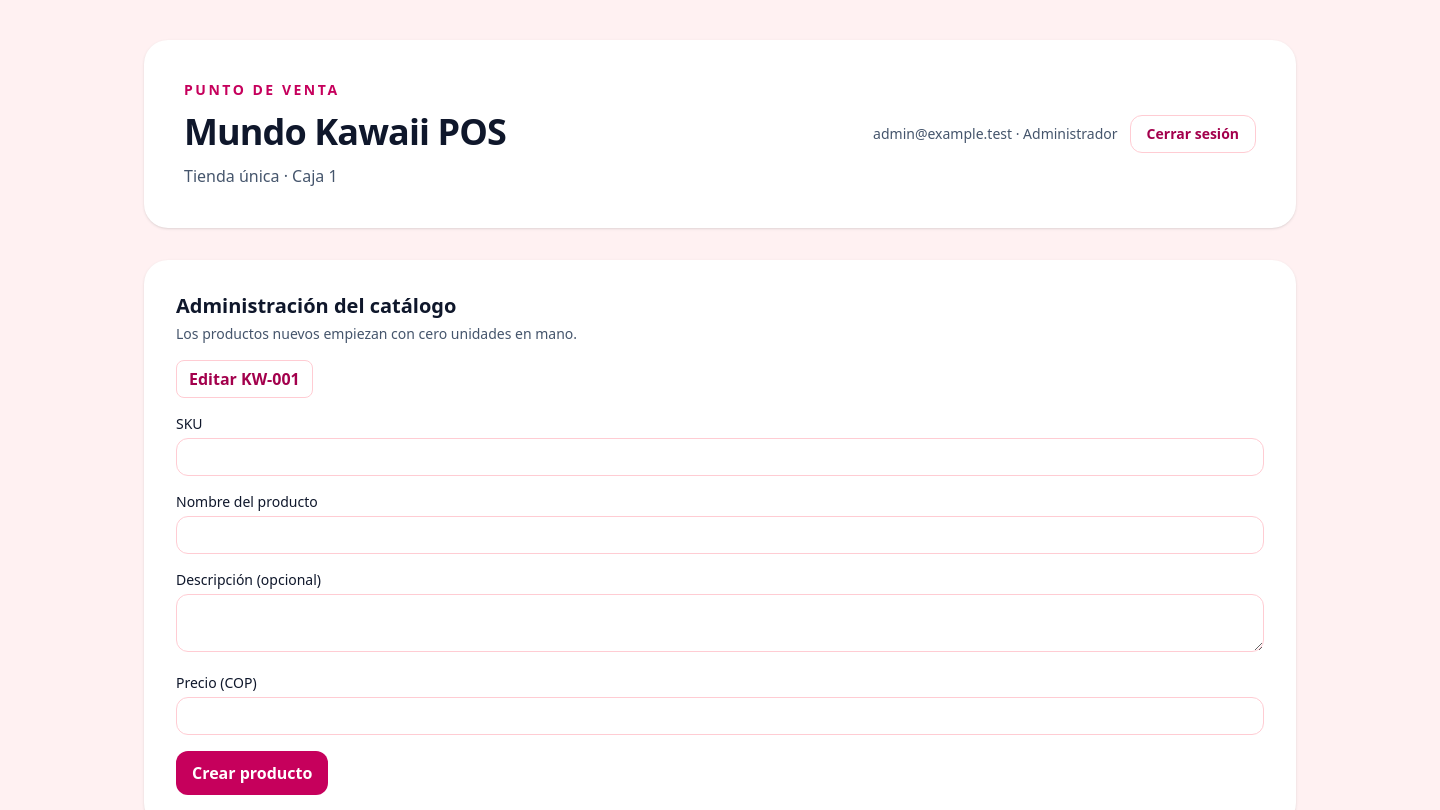
Test: administrator product form › treats a create product as saved when refreshing the catalog fails
Expected: the button "Editar KW-001" is shown, [176,360,313,398]
Type "KW-002" into the field labelled "SKU" at (720, 457), box [176,438,1264,476]
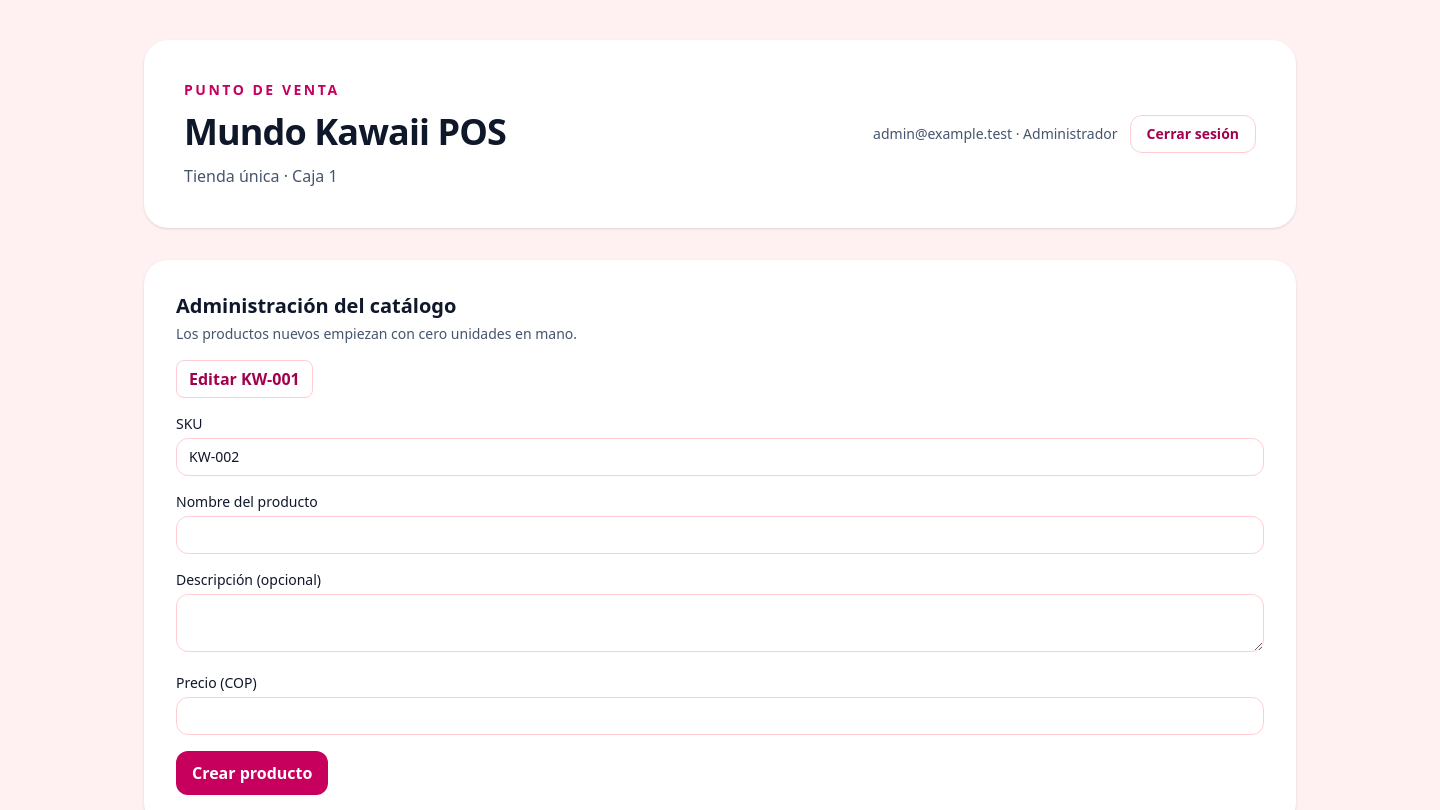
Type "Llavero kawaii" into the field labelled "Nombre del producto" at (720, 535), box [176,516,1264,554]
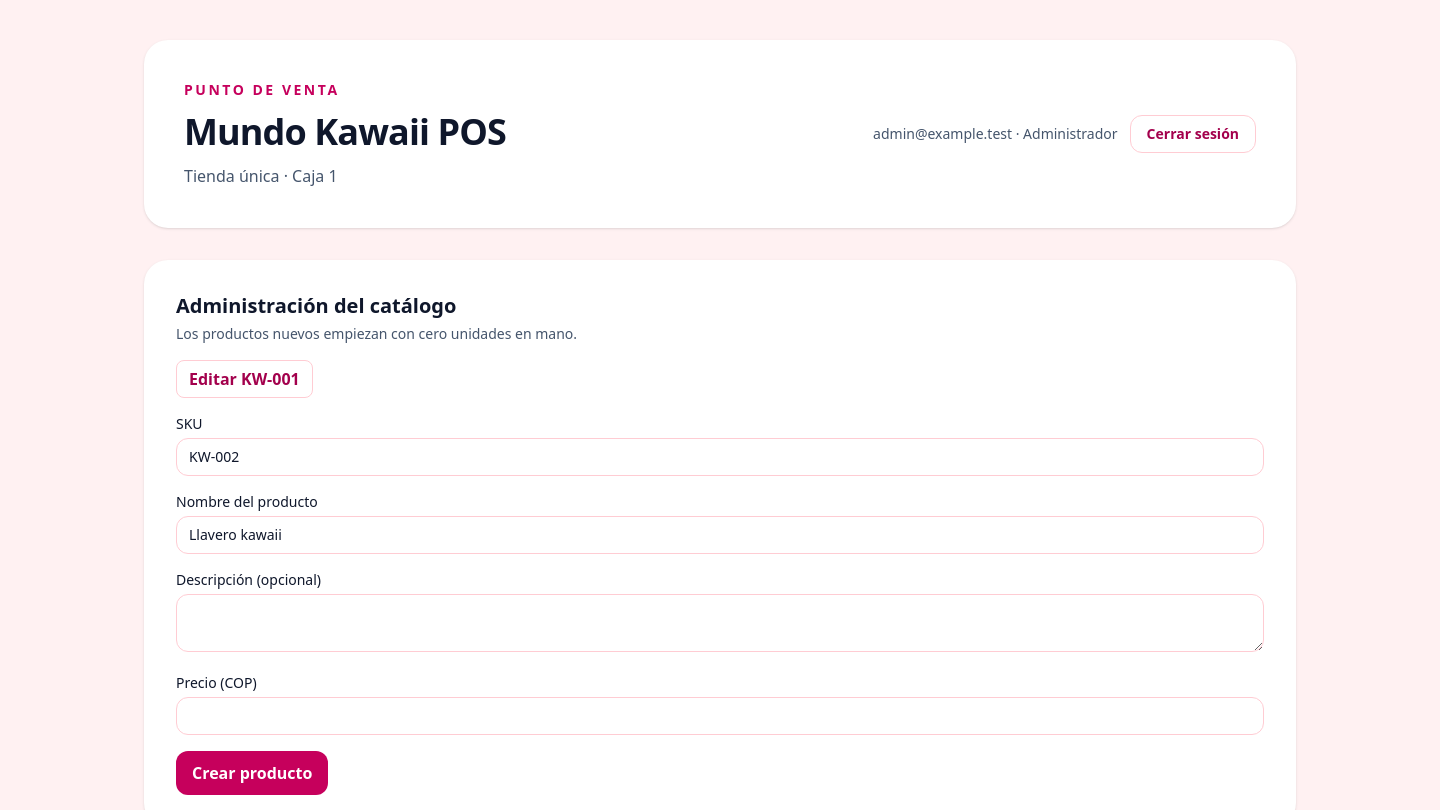
Type "18000" into the number field labelled "Precio (COP)" at (720, 716), box [176,697,1264,735]
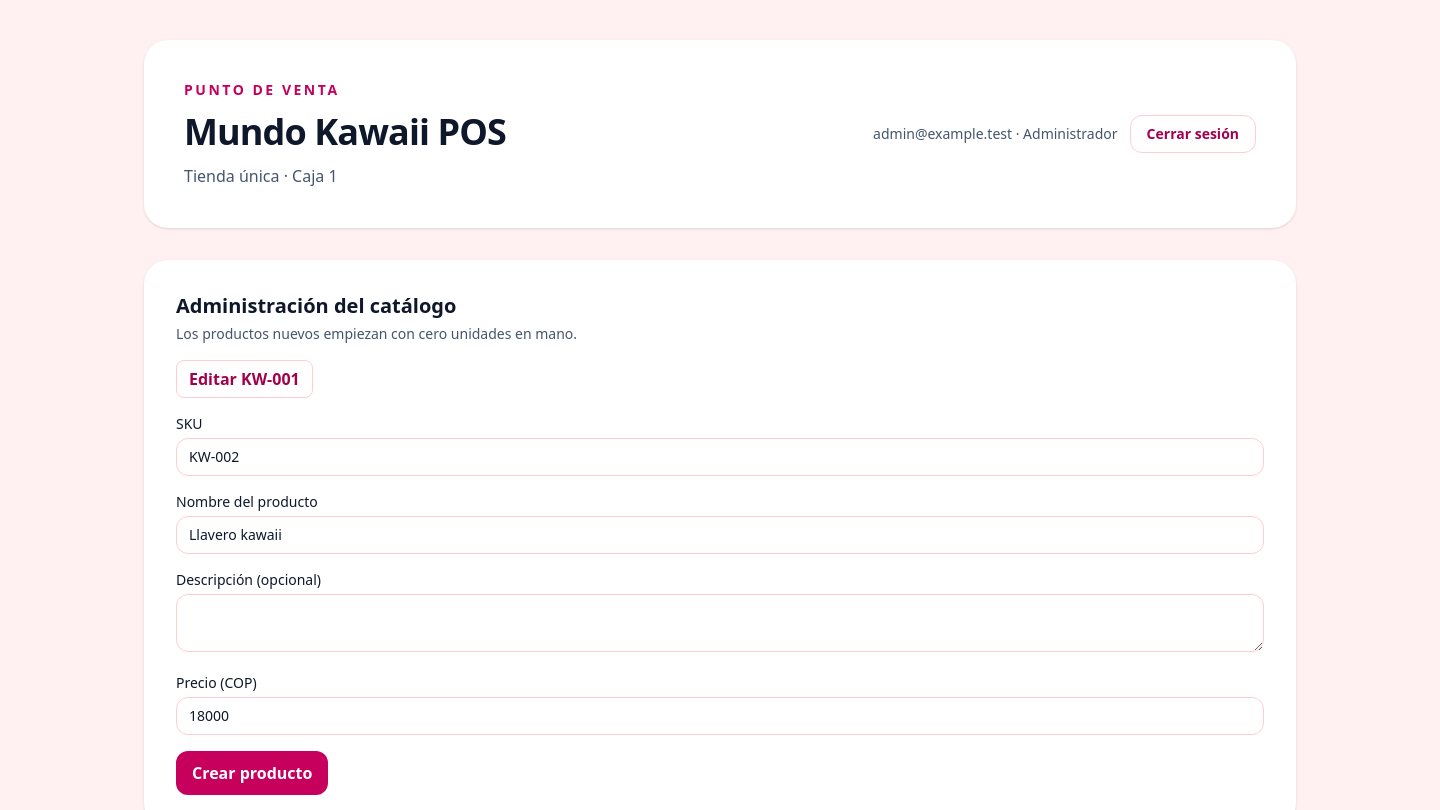
Click the button "Crear producto" at (252, 773), box [176,751,328,795]
(page scrolled)
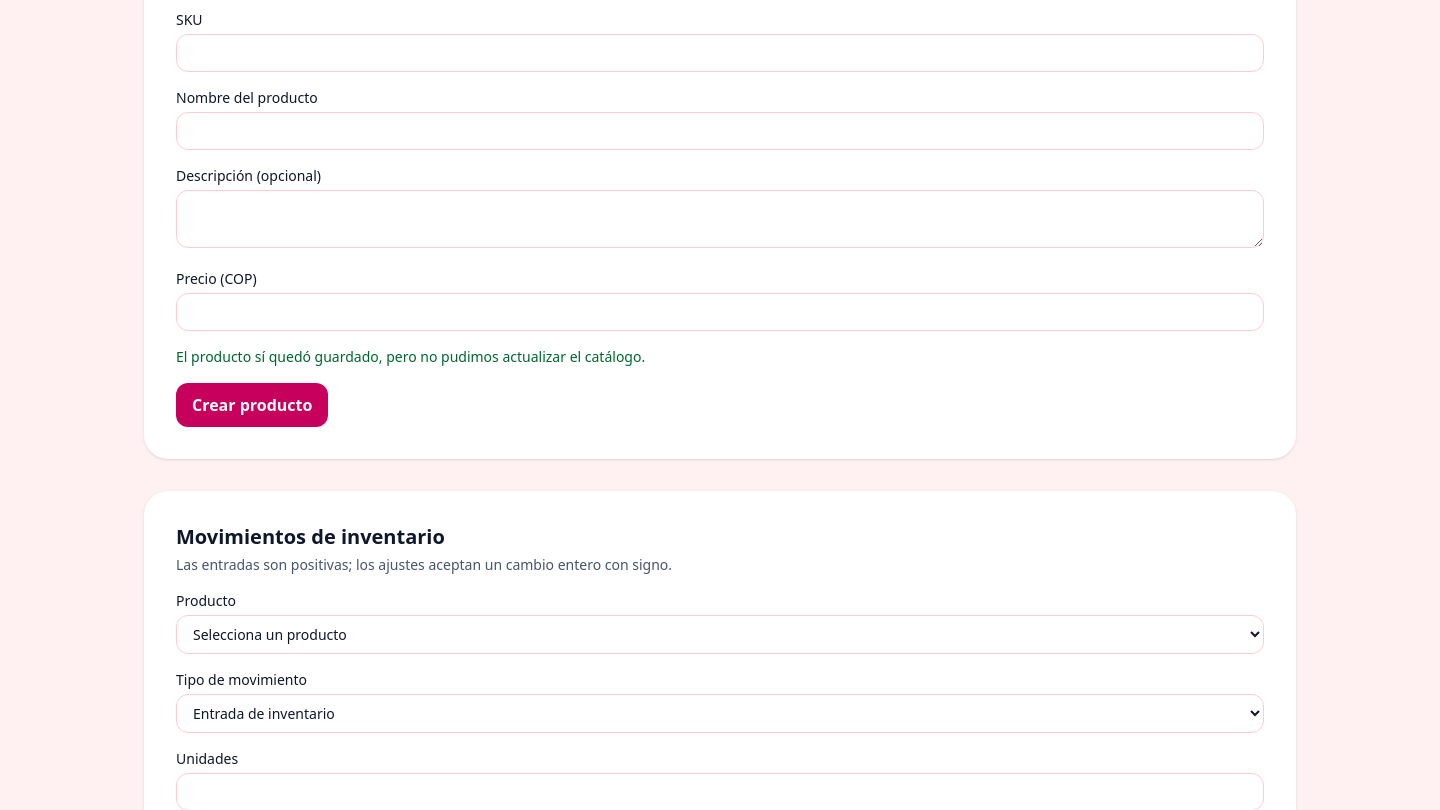
Now the message reads "El producto sí quedó guardado, pero no pudimos actualizar el catálogo.", box [176,347,645,366]
Now the field labelled "Nombre del producto" is empty, box [176,112,1264,150]
Now the number field labelled "Precio (COP)" is not empty, box [176,293,1264,331]
